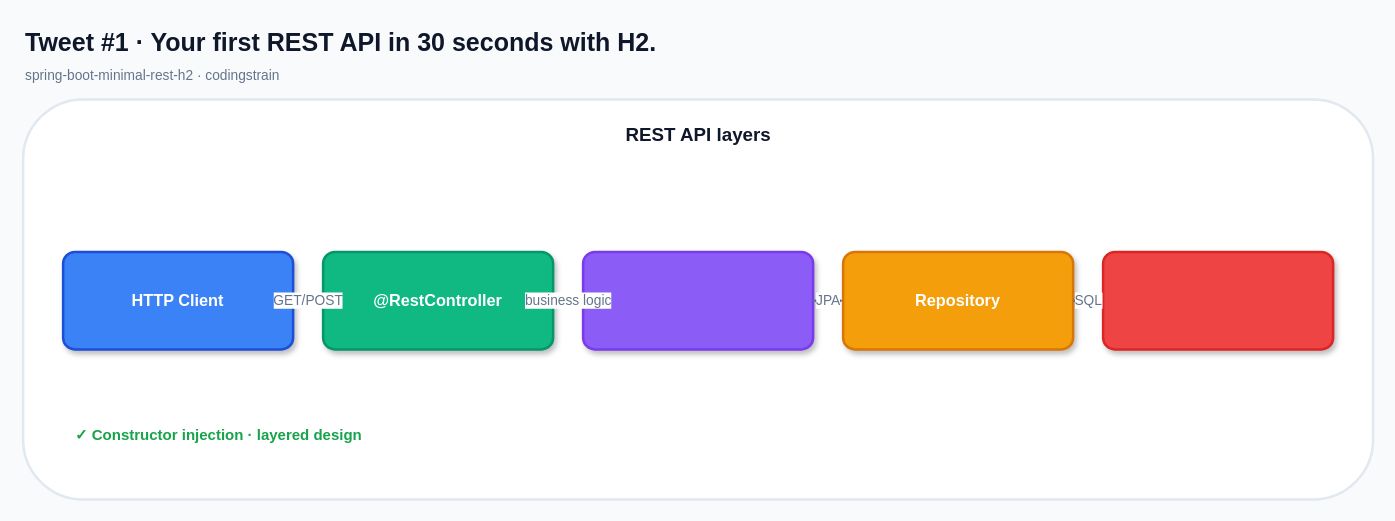
The diagram is 1395 pixels wide and 521 high, and some of its shapes have lost their labels. Here are the shapes that lost their labels. From the top down, the centre of each, then its label:
point (698, 302): Service
point (1218, 302): H2 / DB
